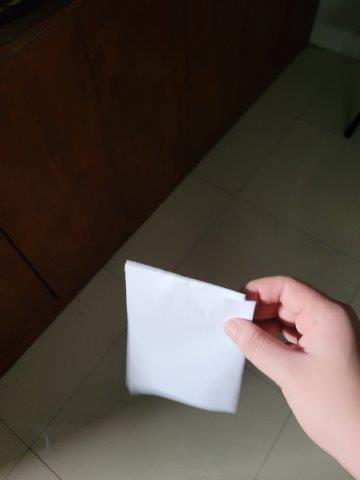kertas: (126, 261, 257, 415)
